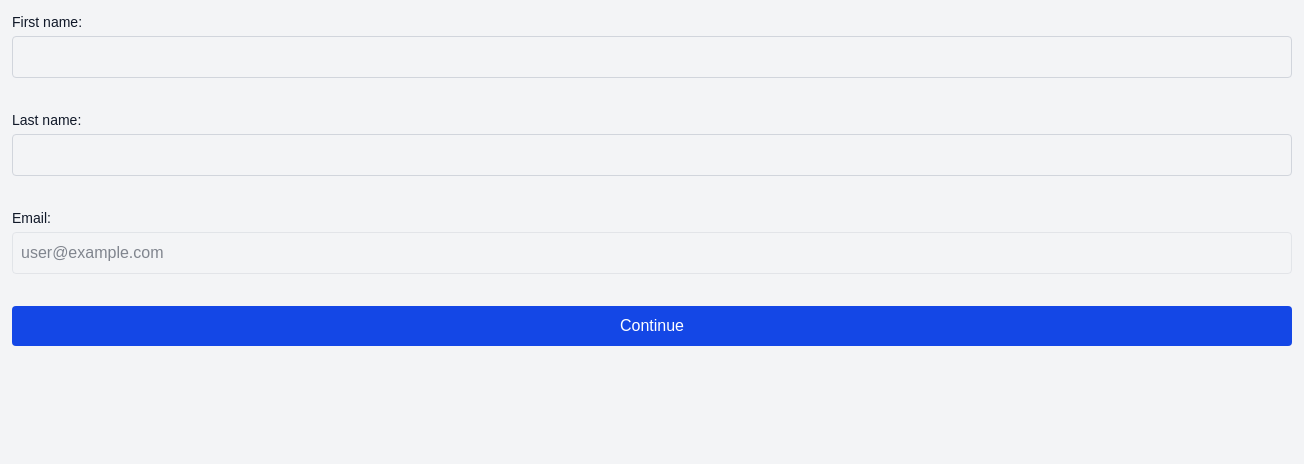
Scenario: CompleteSignUpForm › validation › shows required errors when first and last name are empty
The width and height of the screenshot is (1304, 464).
Click the button "Continue".
click(652, 326)  # box [12,306,1292,346]
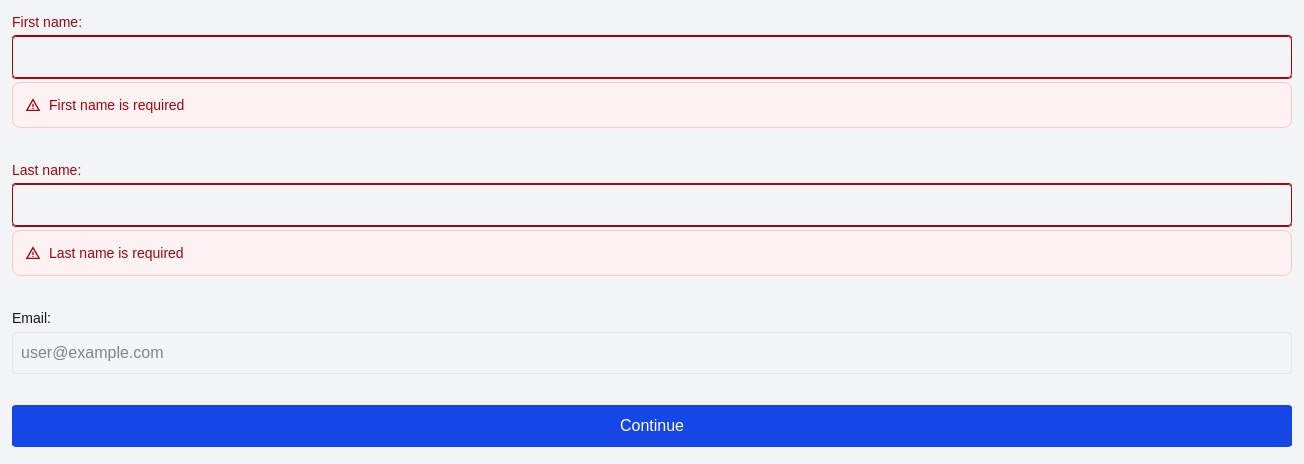
Now the text "First name is required" is shown, box [25,97,184,113]
Now the text "Last name is required" is shown, box [25,245,184,261]
